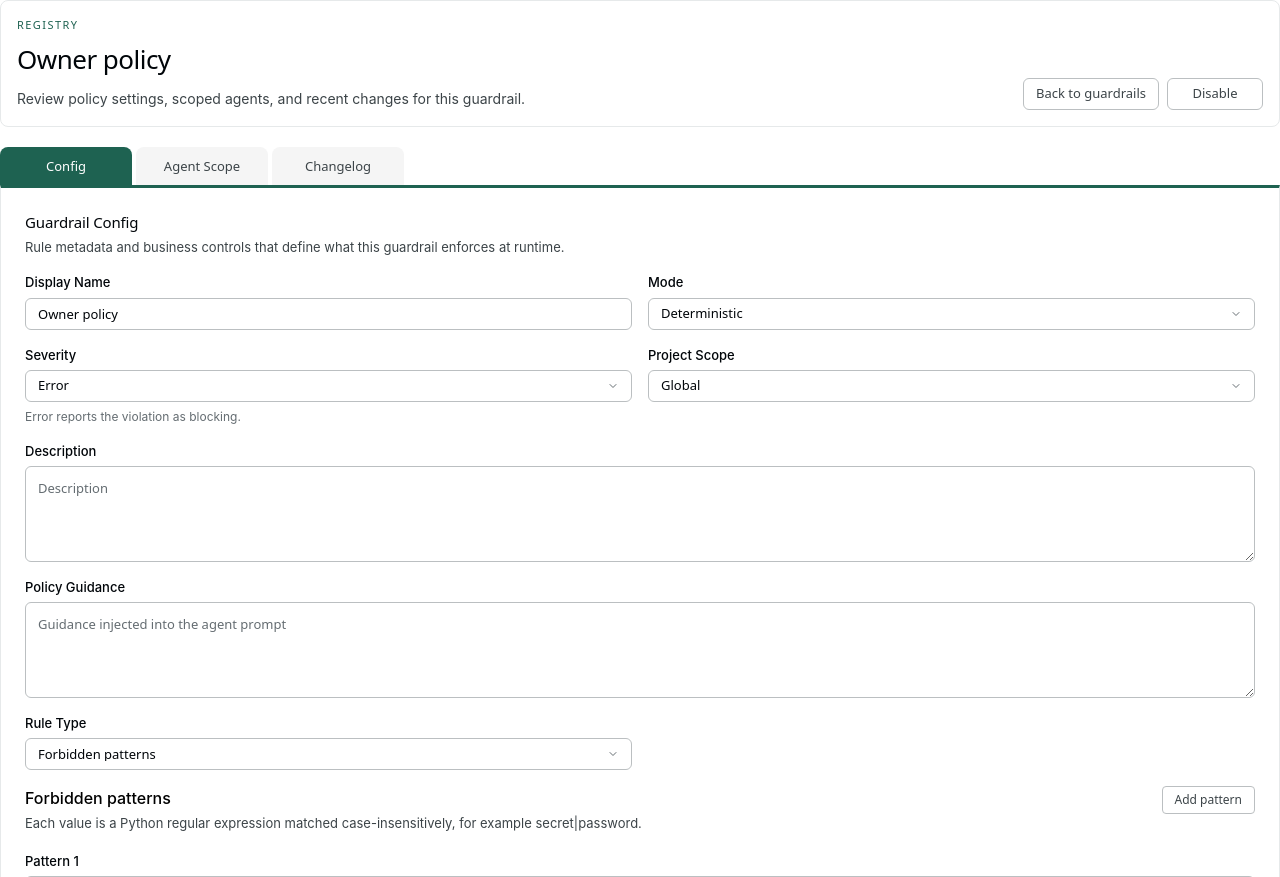
Scenario: RegistryGuardrailsDetailPage › localizes the empty guardrail scope message and does not save an invalid assignment
Click the tab "Agent Scope". click: (202, 166)
box: [136,147,268,185]
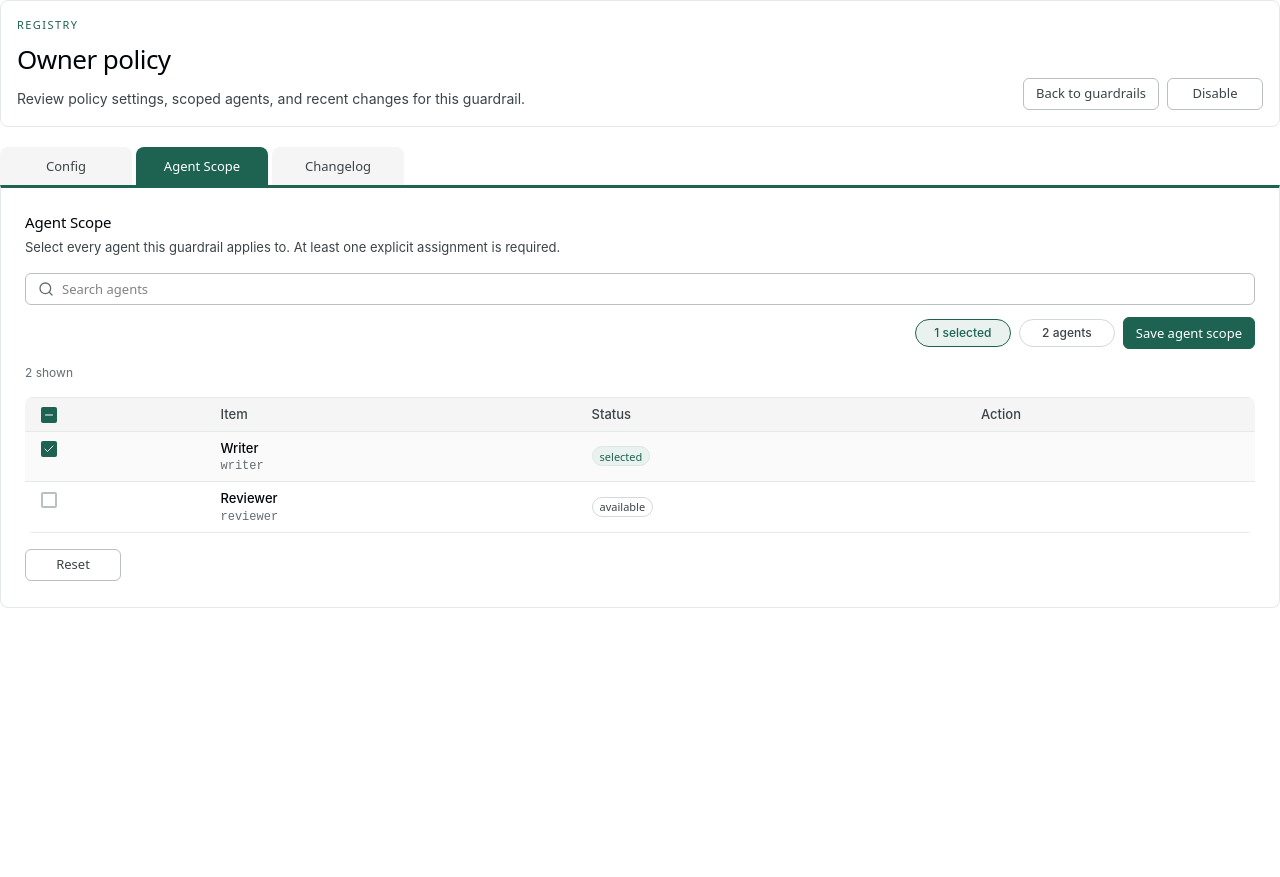
expect the checkbox named "Toggle Writer" is enabled: met
expect the checkbox named "Toggle Writer" is checked: met
Click the checkbox named "Toggle Writer". click: (49, 449)
box: [41,441,57,457]
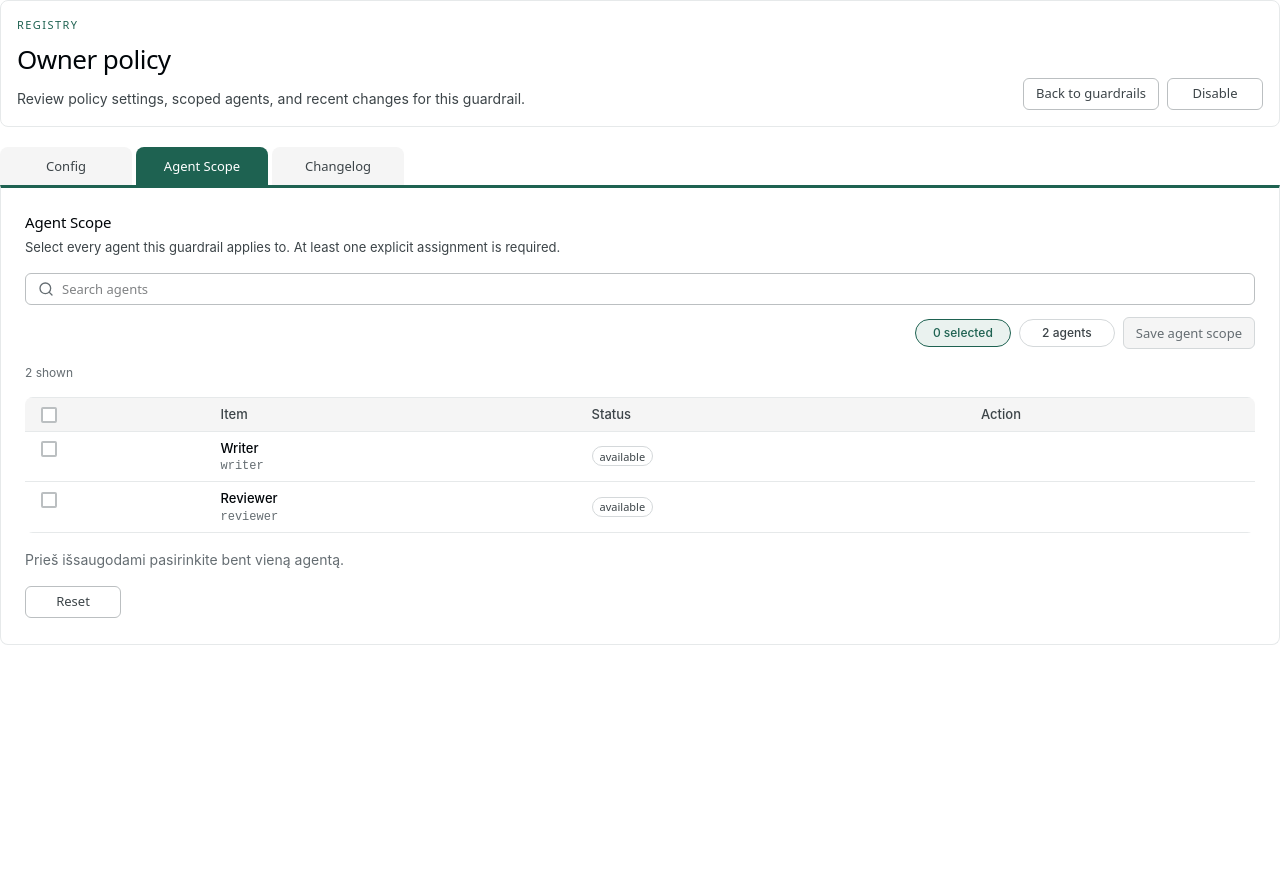
expect the text "Prieš išsaugodami pasirinkite bent vieną agentą." is shown: met, box [25,551,344,568]
expect the button "Save agent scope" is disabled: met, box [1123,318,1255,350]
